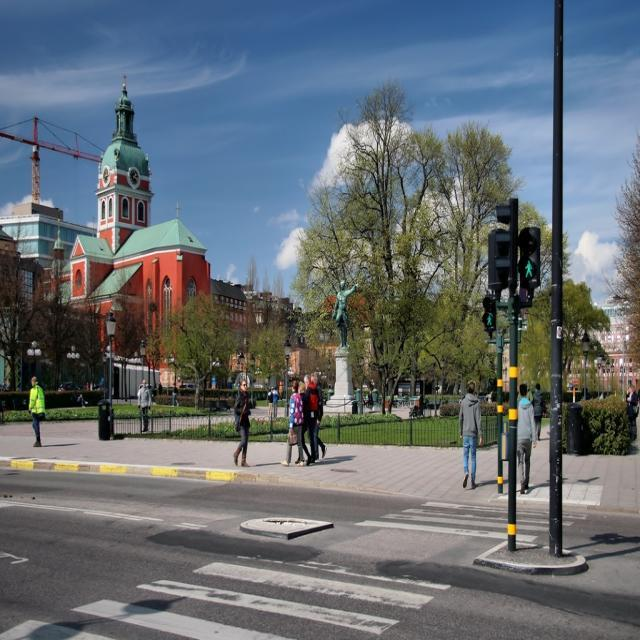off traffic light: (494, 199, 519, 279)
traffic light: (521, 228, 539, 284), (482, 294, 497, 333)
